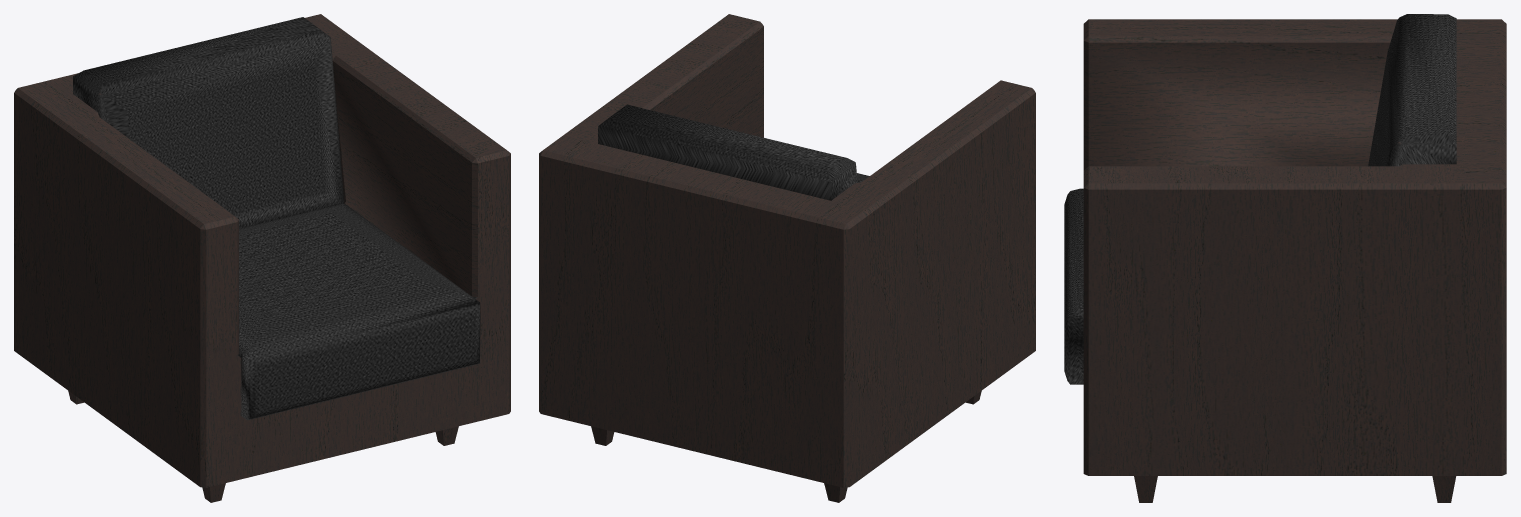
The model's file is armChair.glb.
3 renders of one model, left to right at view 1: azimuth 30°, elevation 25°; view 2: azimuth 150°, elevation 25°; view 3: azimuth 270°, elevation 25°, orthographic. The views are drawn at different scales.
Bounding box in the file's own units: 8 × 8.06 × 8.89.
Materials: 1 (1 with a texture image).
